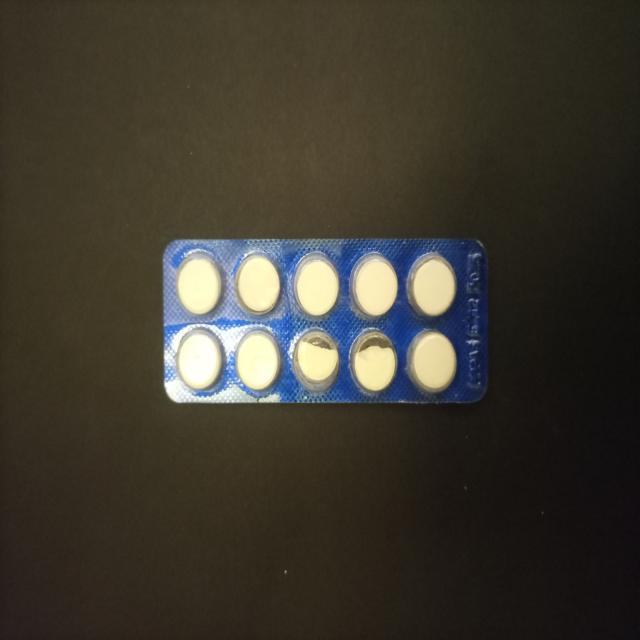defect: (349, 324, 401, 397), (289, 325, 343, 394)
